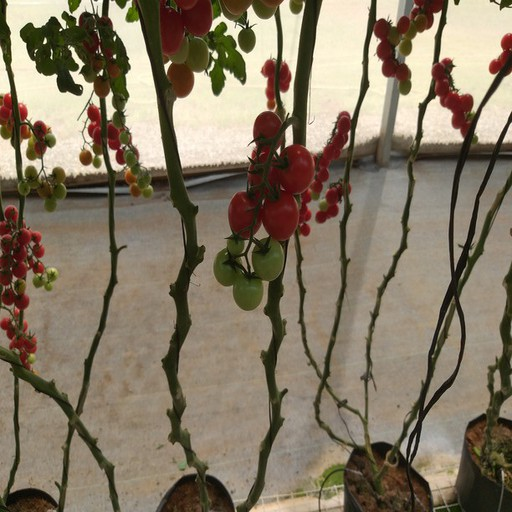green tomato bunch: (112, 110, 160, 197), (489, 33, 512, 78)
mixed tomato bunch: (1, 90, 68, 206), (374, 1, 445, 78)
red tomato bunch: (229, 111, 313, 242), (293, 111, 351, 238), (147, 1, 215, 98), (1, 206, 61, 303), (432, 58, 474, 139), (83, 105, 132, 161), (1, 308, 37, 376), (259, 59, 292, 110), (316, 180, 354, 222)
